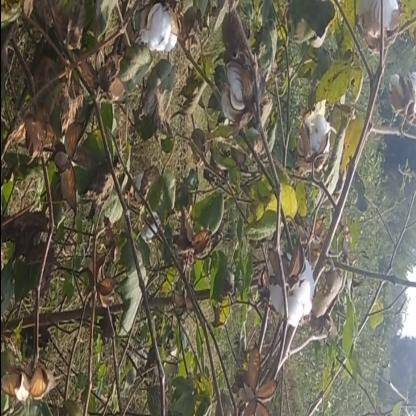cotton_ready: (264, 245, 314, 348), (144, 1, 186, 76)
